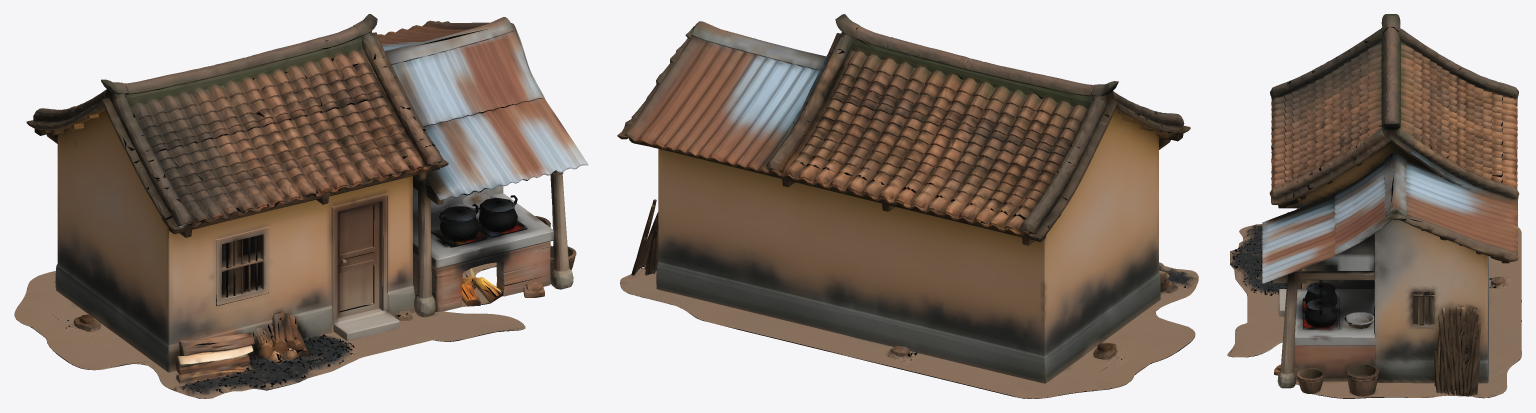
File: NhaQue_Tencent_04.fbx
3 renders of one model, left to right at view 1: azimuth 30°, elevation 25°; view 2: azimuth 150°, elevation 25°; view 3: azimuth 270°, elevation 25°, orthographic. The views are drawn at different scales.
Parts seen in each view (by area): view 1: Nha04_LOD0; view 2: Nha04_LOD0; view 3: Nha04_LOD0.
Boxes of the visible parts, x1=… form: Nha04_LOD0: x1=14, y1=14, x2=588, y2=398; Nha04_LOD0: x1=617, y1=14, x2=1198, y2=398; Nha04_LOD0: x1=1227, y1=14, x2=1521, y2=398.
Size of what is drawn, in the model's own units: 7.8 by 3.92 by 4.95.
